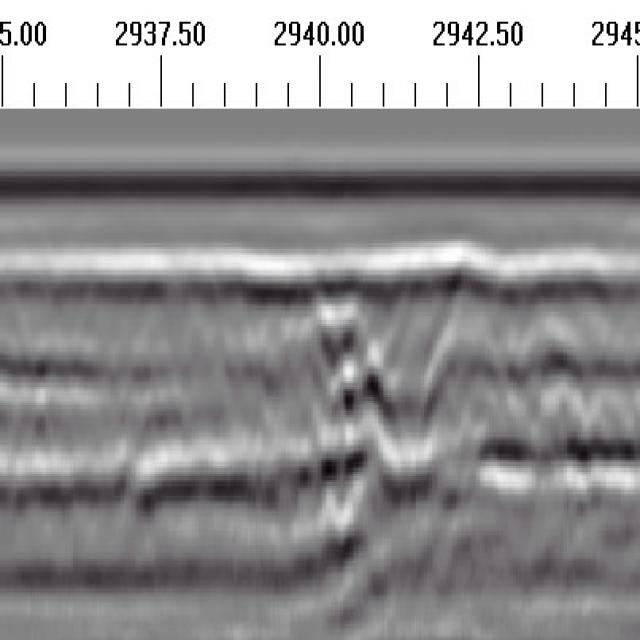loose: (249, 242, 636, 544)
